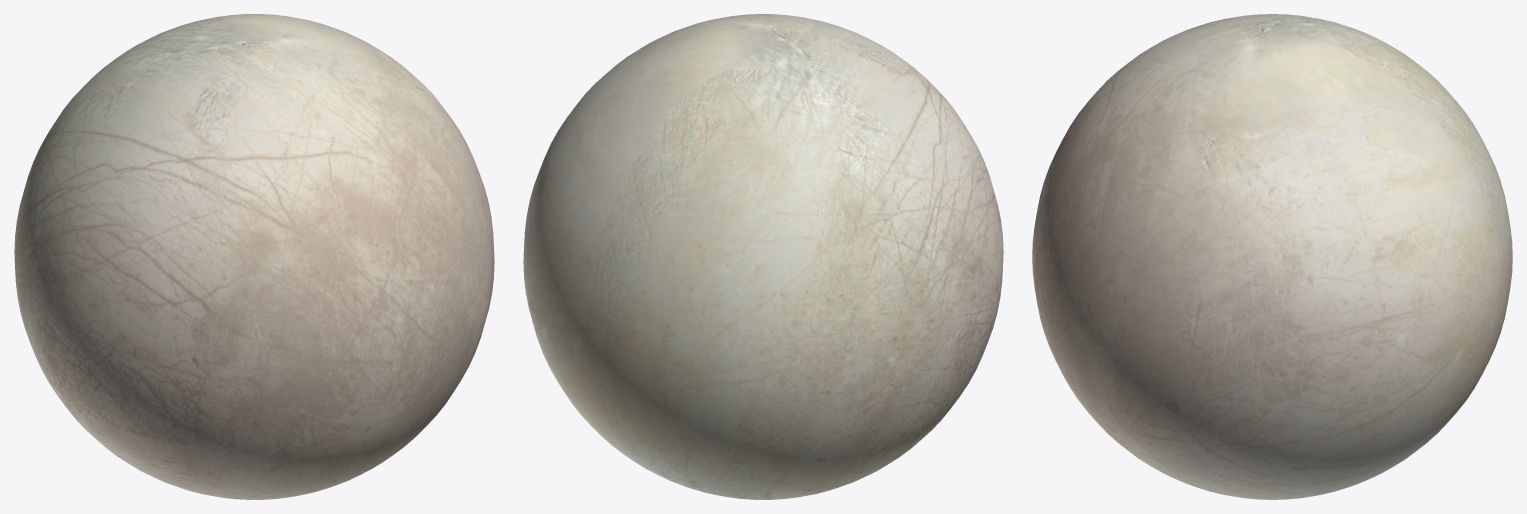
File: europa.obj
3 views of the same model, side by side, from view 1: azimuth 30°, elevation 25°; view 2: azimuth 150°, elevation 25°; view 3: azimuth 270°, elevation 25° (orthographic).
Visible parts, largest first — view 1: europa; view 2: europa; view 3: europa.
Boxes of the visible parts, x1,y1,x2,y2 form: europa: (14, 14, 494, 499); europa: (523, 14, 1003, 499); europa: (1032, 14, 1512, 499).
Bounding box in the file's own units: 4.92 × 4.97 × 4.92.
Materials: 1 (1 with a texture image).
